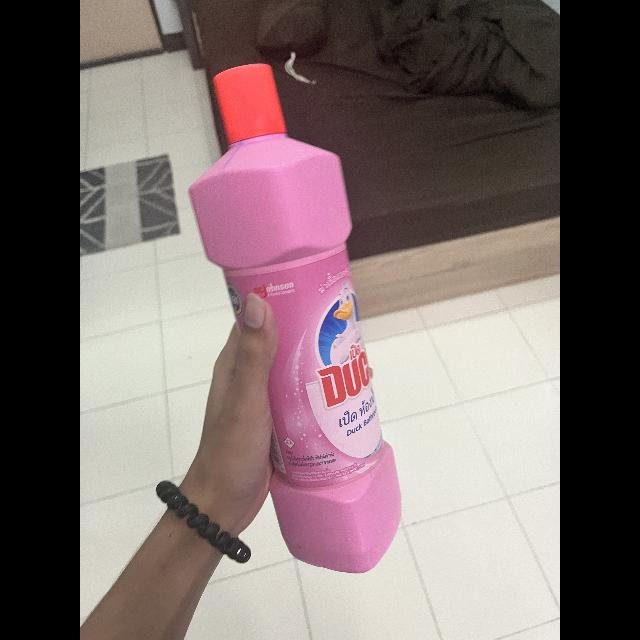chemical_plastic_bottle: (186, 56, 402, 586)
